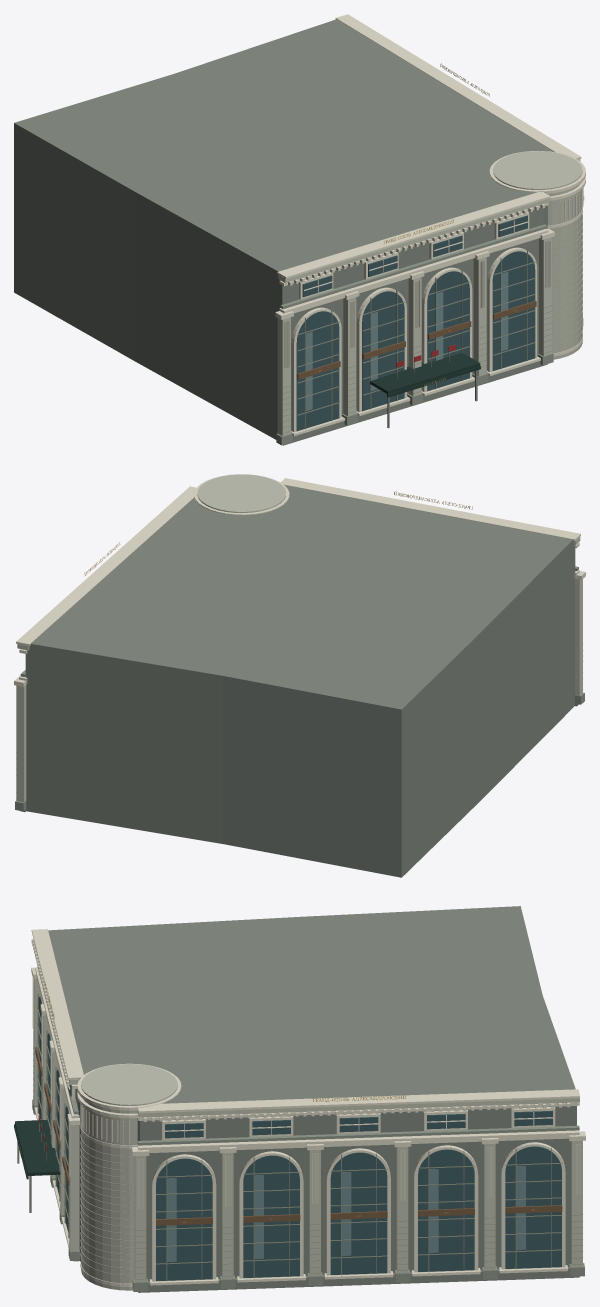
The model's file is alexandrovsky.glb.
3 views of the same model, one above another, from view 1: azimuth 30°, elevation 25°; view 2: azimuth 150°, elevation 25°; view 3: azimuth 270°, elevation 25° (orthographic). The views are drawn at different scales.
Visible parts, largest first — view 1: col_body, vis_square_glass, vis_square_ivory, vis_square_pilaster, col_corner, vis_square_mullion, vis_mira_ivory, vis_square_stone, vis_entrance_iron, vis_square_reflection, vis_square_base, vis_corner_ivory (+2 smaller); view 2: col_body, vis_mira_ivory, col_corner, vis_square_ivory, vis_mira_pilaster, vis_square_pilaster; view 3: col_body, vis_mira_glass, vis_mira_ivory, col_corner, vis_mira_pilaster, vis_square_ivory, vis_mira_mullion, vis_mira_stone, vis_mira_reflection, vis_square_pilaster, vis_mira_base, vis_mira_date (+6 smaller).
Boxes of the visible parts, bbox=[...] form: col_body: bbox=[14, 19, 554, 439]; vis_square_glass: bbox=[296, 215, 535, 431]; vis_square_ivory: bbox=[275, 192, 554, 436]; vis_square_pilaster: bbox=[277, 198, 551, 436]; col_corner: bbox=[493, 151, 582, 359]; vis_square_mullion: bbox=[297, 249, 535, 429]; vis_mira_ivory: bbox=[335, 14, 584, 200]; vis_square_stone: bbox=[276, 224, 553, 445]; vis_entrance_iron: bbox=[370, 353, 480, 397]; vis_square_reflection: bbox=[306, 272, 508, 410]; vis_square_base: bbox=[283, 361, 547, 445]; vis_corner_ivory: bbox=[489, 151, 585, 356]; col_body: bbox=[25, 485, 575, 877]; vis_mira_ivory: bbox=[14, 486, 196, 686]; col_corner: bbox=[197, 474, 285, 512]; vis_square_ivory: bbox=[281, 478, 585, 579]; vis_mira_pilaster: bbox=[16, 644, 29, 802]; vis_square_pilaster: bbox=[573, 537, 582, 695]; col_body: bbox=[48, 906, 576, 1281]; vis_mira_glass: bbox=[156, 1110, 561, 1281]; vis_mira_ivory: bbox=[131, 1089, 585, 1285]; col_corner: bbox=[81, 1064, 177, 1290]; vis_mira_pilaster: bbox=[134, 1098, 582, 1282]; vis_square_ivory: bbox=[31, 929, 83, 1246]; vis_mira_mullion: bbox=[156, 1147, 562, 1281]; vis_mira_stone: bbox=[132, 1125, 584, 1291]; vis_mira_reflection: bbox=[167, 1166, 525, 1261]; vis_square_pilaster: bbox=[33, 979, 79, 1250]; vis_mira_base: bbox=[138, 1266, 579, 1292]; vis_mira_date: bbox=[156, 1205, 562, 1225].
Size of the model in its own units: 31.6 by 13.74 by 37.12.
